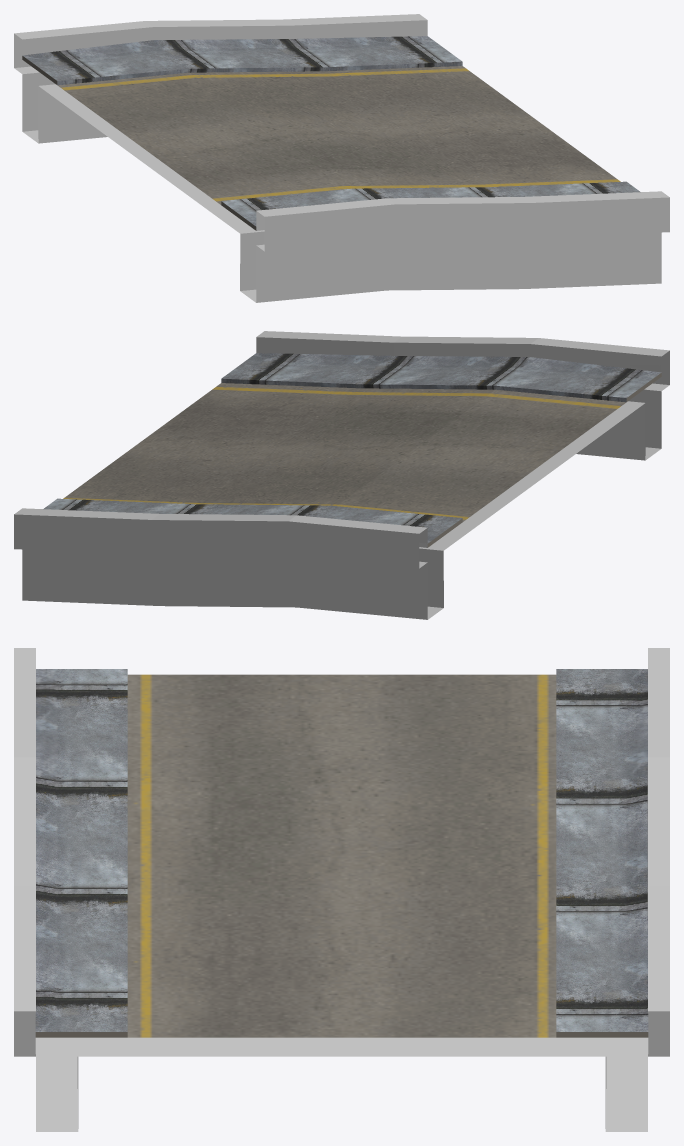
File: Urban_Road2BridgeRamp_Model.fbx
The picture shows the model from 3 angles, top to bottom: view 1: azimuth 30°, elevation 25°; view 2: azimuth 150°, elevation 25°; view 3: azimuth 270°, elevation 25°; orthographic projection. The views are drawn at different scales.
Visible parts, largest first — view 1: Urban_Road2BridgeRamp_Mesh; view 2: Urban_Road2BridgeRamp_Mesh; view 3: Urban_Road2BridgeRamp_Mesh.
Part boxes in pixels (left/top/right/bottom): Urban_Road2BridgeRamp_Mesh: left=14, top=14, right=669, bottom=302; Urban_Road2BridgeRamp_Mesh: left=14, top=331, right=669, bottom=619; Urban_Road2BridgeRamp_Mesh: left=14, top=648, right=669, bottom=1131.
Bounding box in the file's own units: 16 × 6.48 × 17.13.
